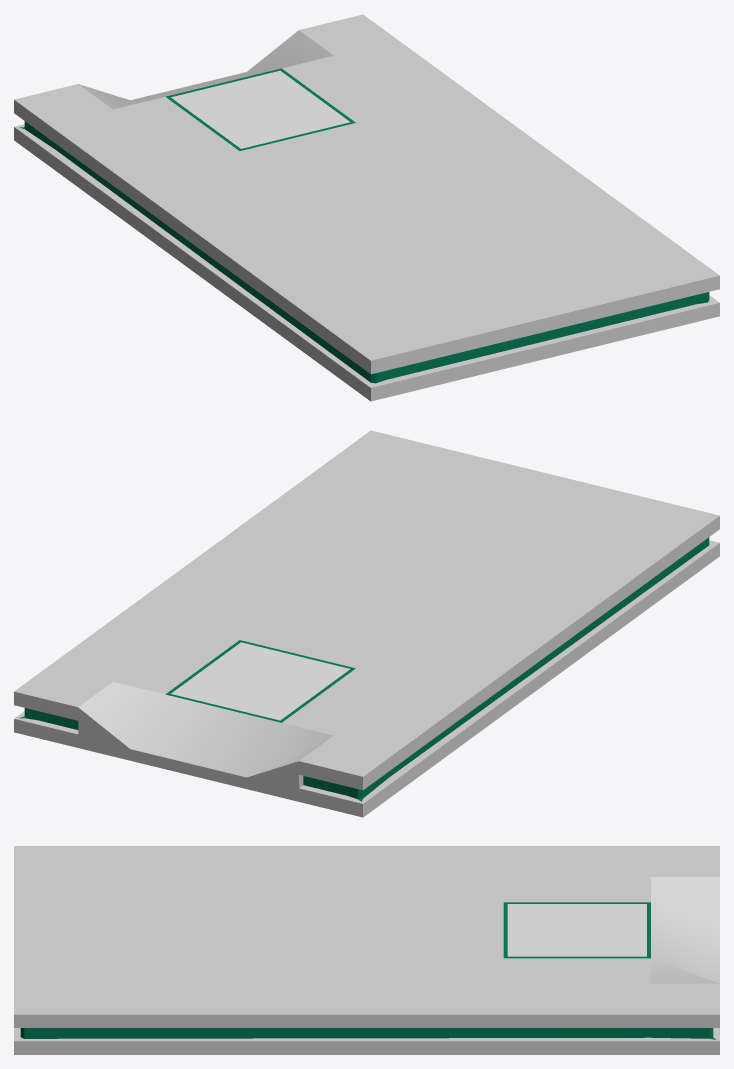
File: TemplePlatform.fbx
3 renders of one model, top to bottom at view 1: azimuth 30°, elevation 25°; view 2: azimuth 150°, elevation 25°; view 3: azimuth 270°, elevation 25°, orthographic.
Parts seen in each view (by area): view 1: Cube; view 2: Cube; view 3: Cube.
Part boxes in pixels (box(x1,y1,x2,y2)): Cube: box(14, 14, 719, 401); Cube: box(14, 430, 719, 817); Cube: box(14, 846, 719, 1054).
Size of the model in its own units: 32.52 by 3.63 by 57.57.
